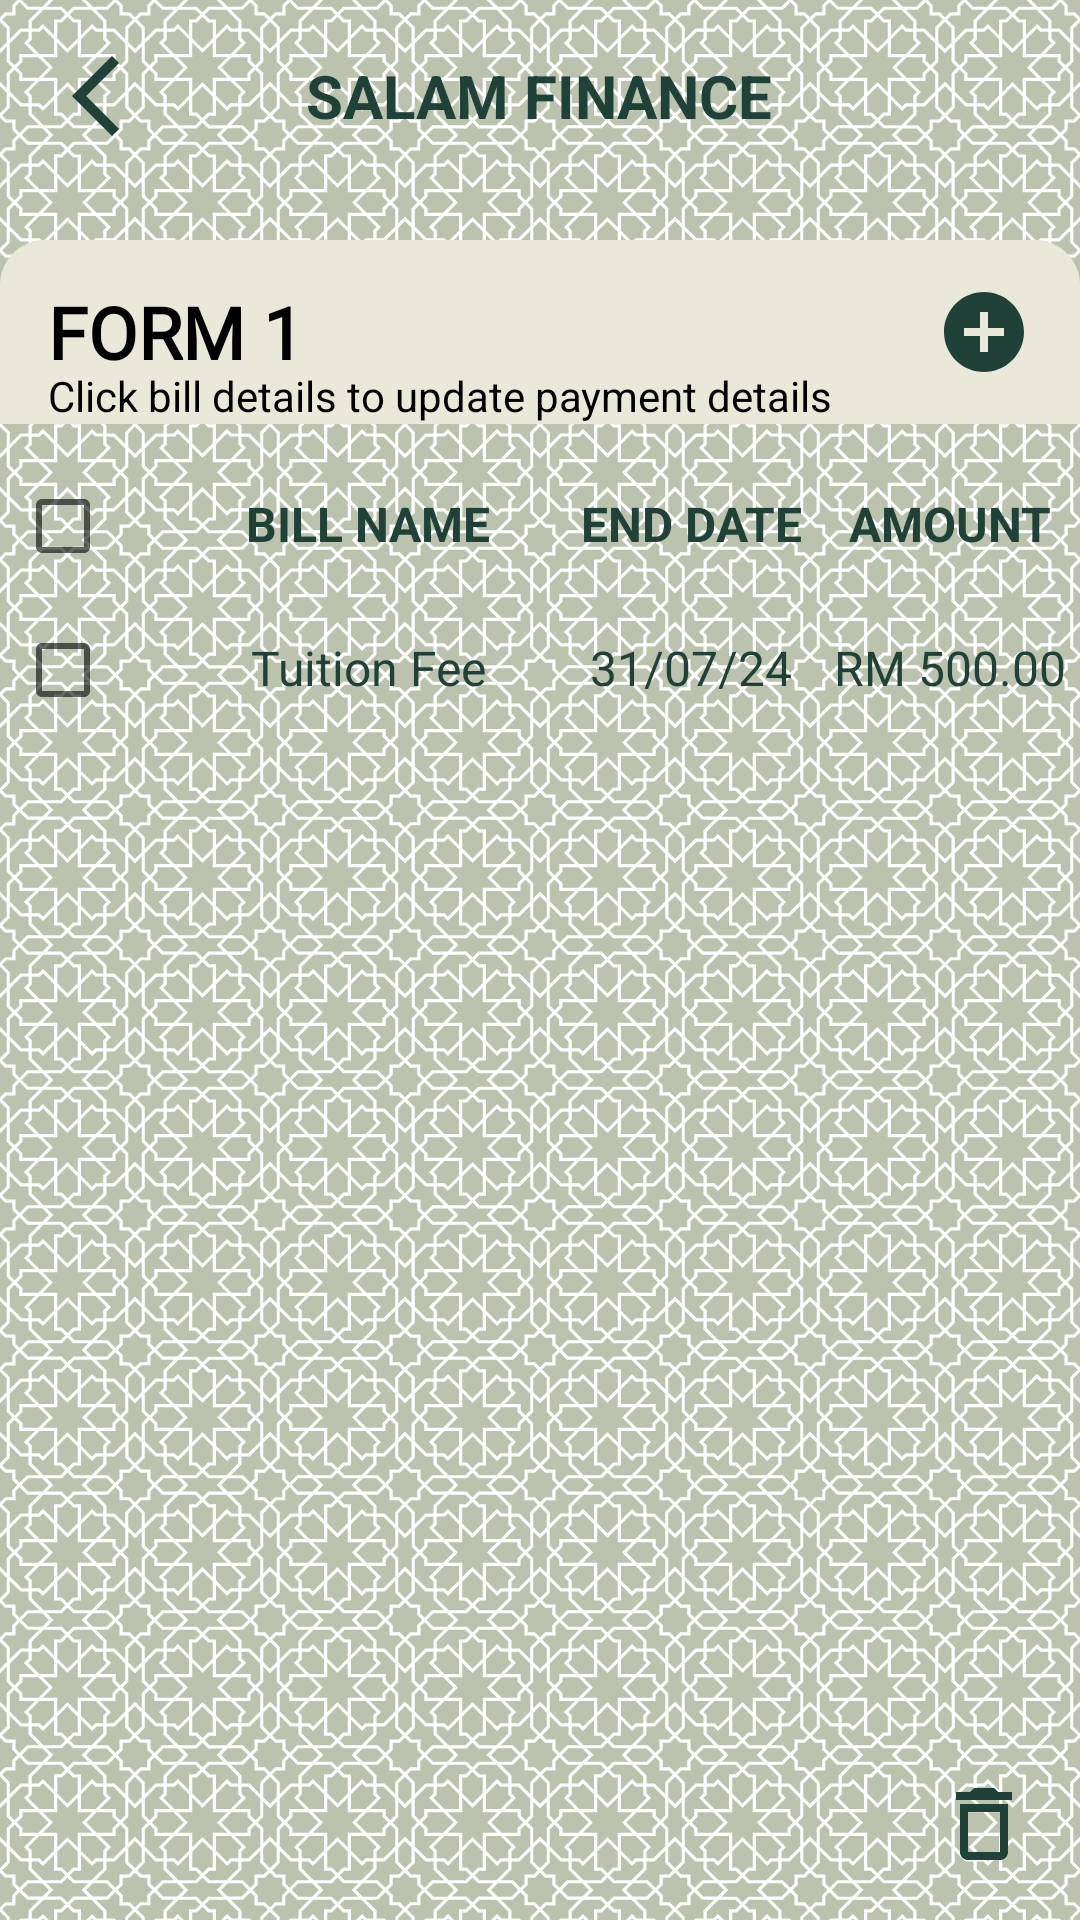

Where to tap for icons on this 1080w x 1920h app screen, as point (x, y):
Add: point (984, 332)
arrow back: point (96, 96)
Delete: point (984, 1824)
